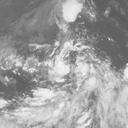cyclone: (38, 45, 112, 116)
